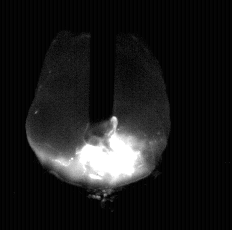arame: (90, 0, 114, 139)
poca: (25, 0, 171, 230)
